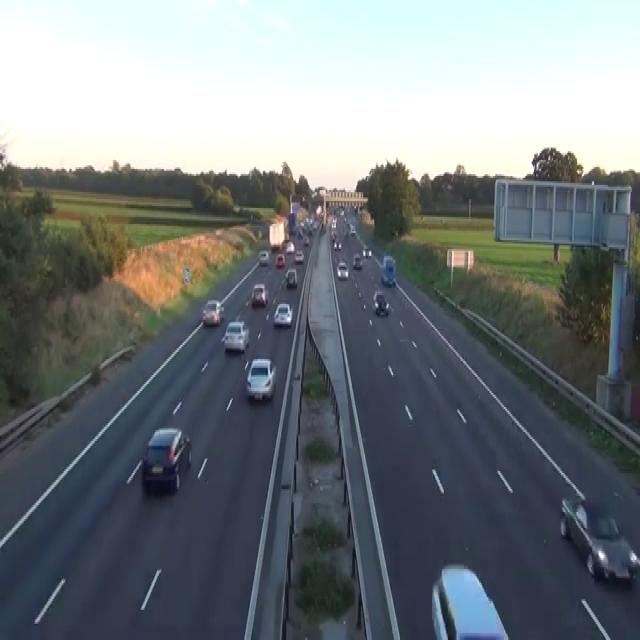Car: (559, 494, 639, 585), (431, 562, 509, 638), (141, 427, 191, 492), (245, 357, 276, 402), (222, 320, 249, 352), (202, 299, 224, 325), (273, 302, 293, 327), (251, 282, 268, 308), (372, 290, 389, 314), (285, 268, 297, 288), (336, 260, 348, 279), (381, 270, 395, 284), (258, 249, 269, 265), (352, 252, 362, 268), (275, 254, 285, 268), (294, 249, 304, 263), (362, 244, 371, 258), (286, 240, 294, 252), (333, 240, 341, 251), (331, 215, 337, 229), (349, 222, 355, 235), (330, 229, 336, 242), (302, 235, 309, 245), (296, 228, 303, 238), (367, 247, 372, 258)
Truck: (269, 220, 285, 250), (381, 254, 396, 286)
